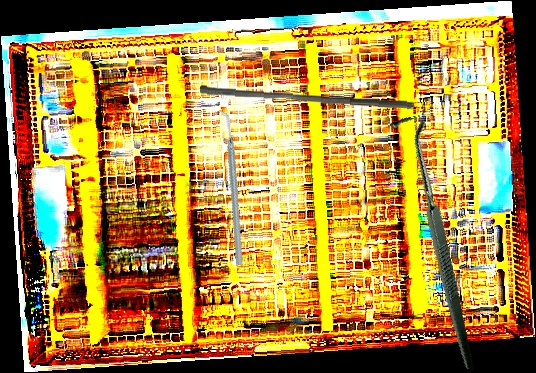Chopper: (173, 109, 289, 267)
Hook Surgical: (333, 112, 533, 371)
Pusher: (199, 85, 415, 110)
